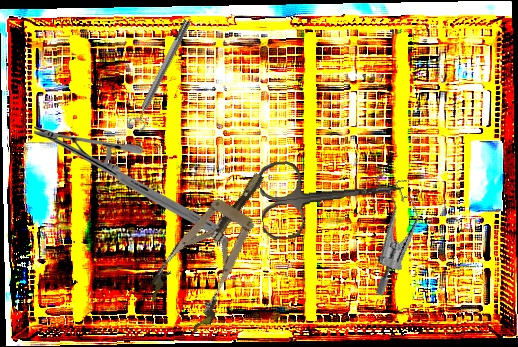Fixation Ring: (126, 17, 197, 132)
Iris Scissors: (257, 151, 408, 241)
Needle Holder: (34, 124, 218, 236)
Speculum: (141, 156, 292, 337), (335, 160, 443, 299)
